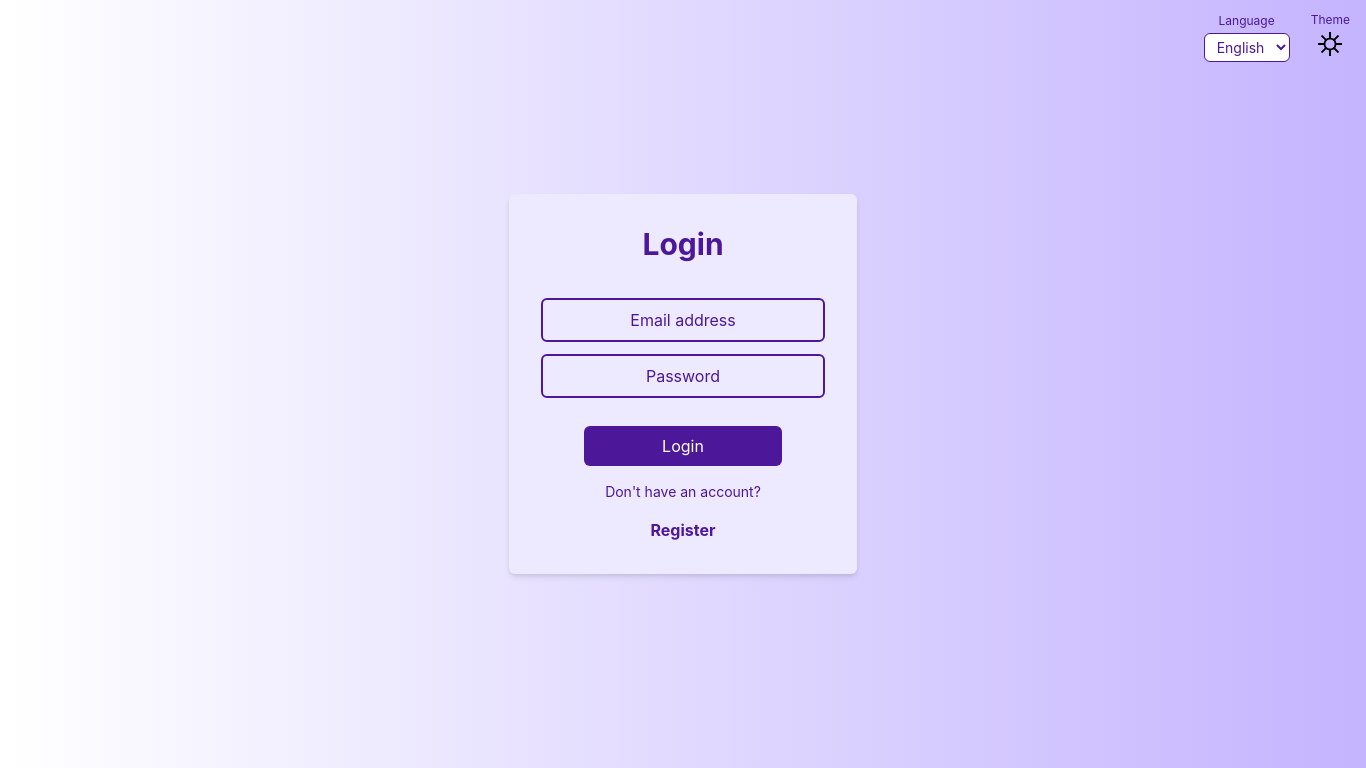
LoginPage tests › error should be displayed when invalid credentials are provided
Type "test@example.com" into the field with placeholder "Email address".
click(683, 320); type("test@example.com")  # box [541,298,825,342]
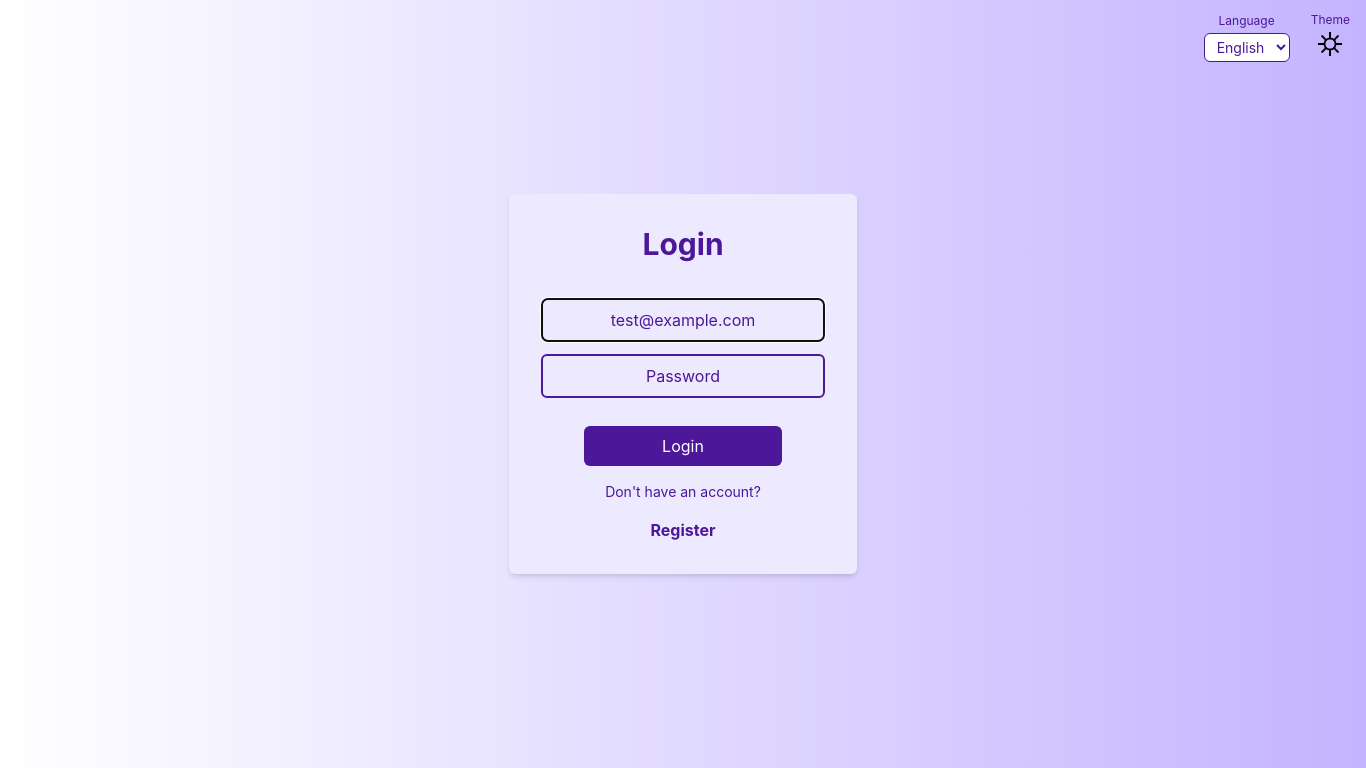
Type "invalidpassword" into the password field with placeholder "Password".
click(683, 376); type("invalidpassword")  # box [541,354,825,398]
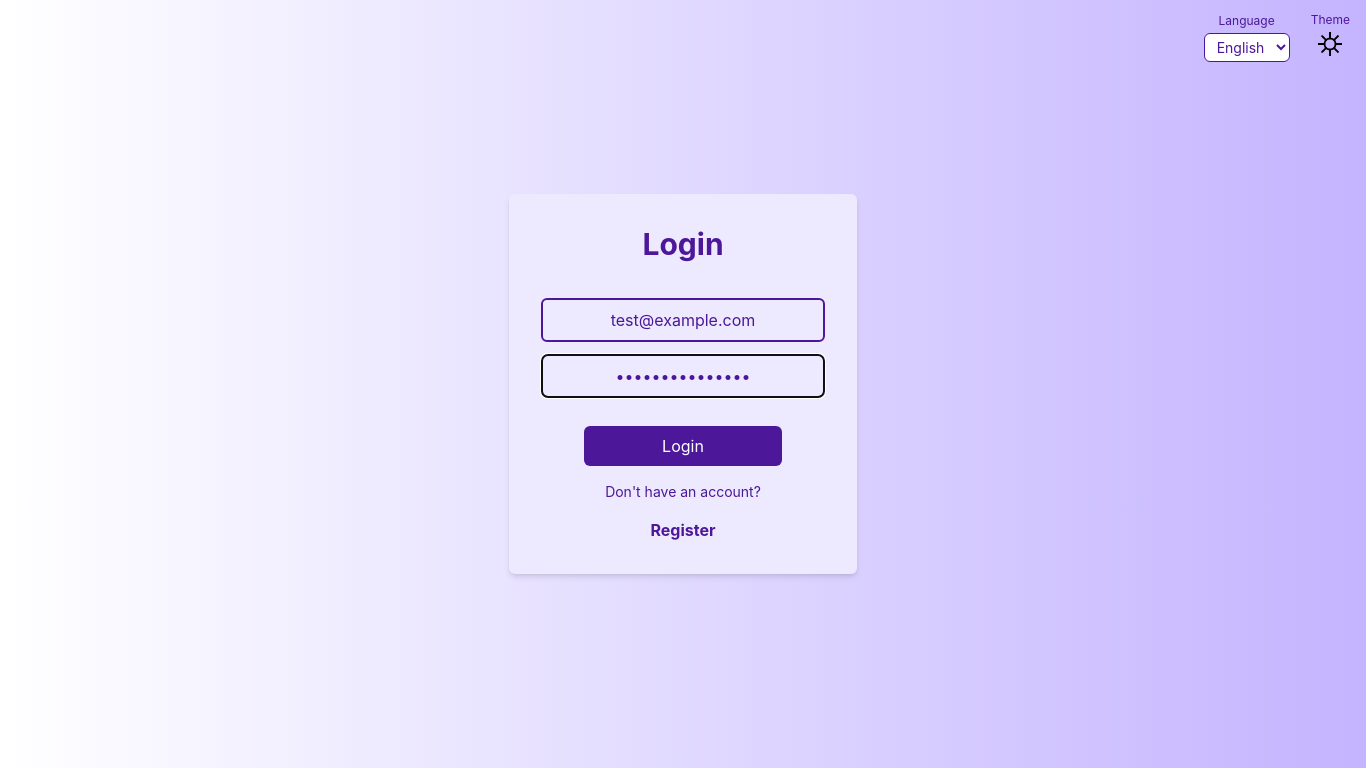
Click the button "Login".
click(683, 446)  # box [584,426,782,466]
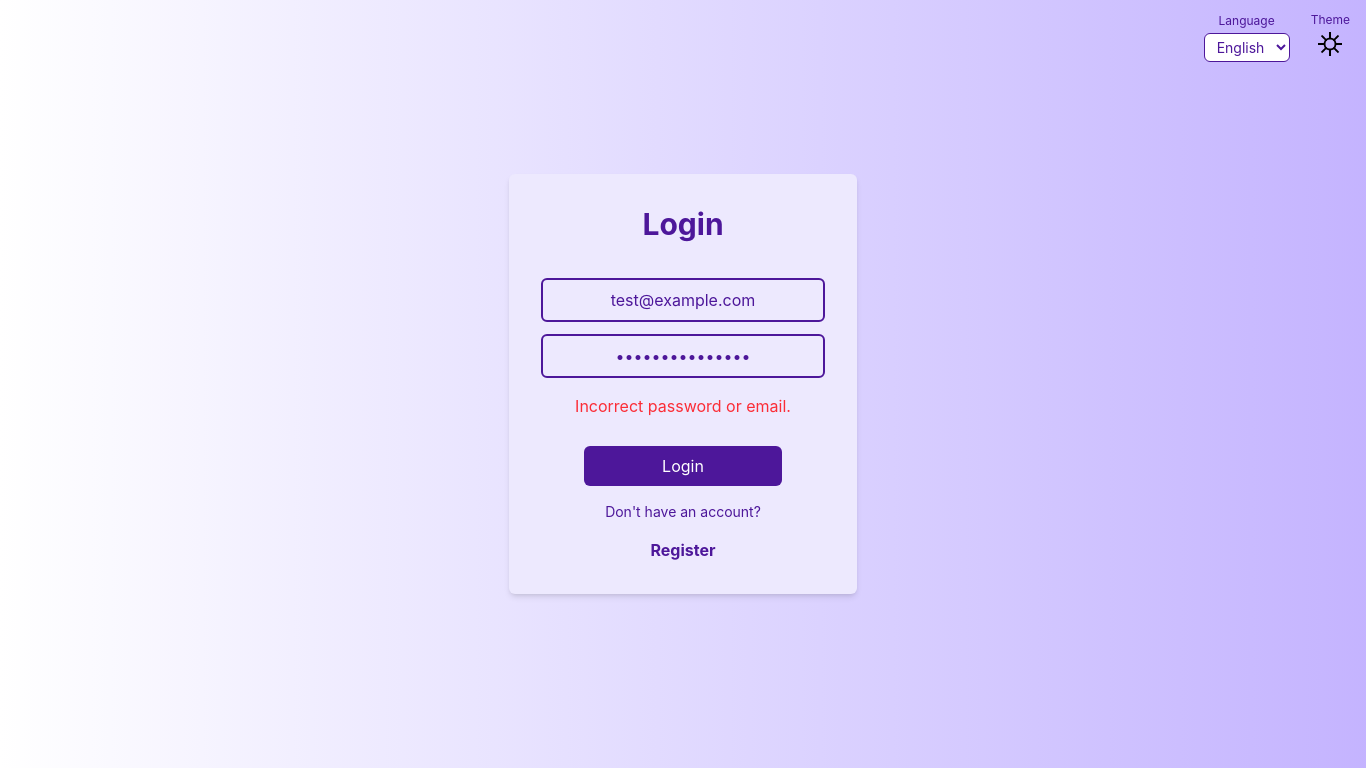
Result: the text "Incorrect password or email." is shown at [575,396,791,416]
